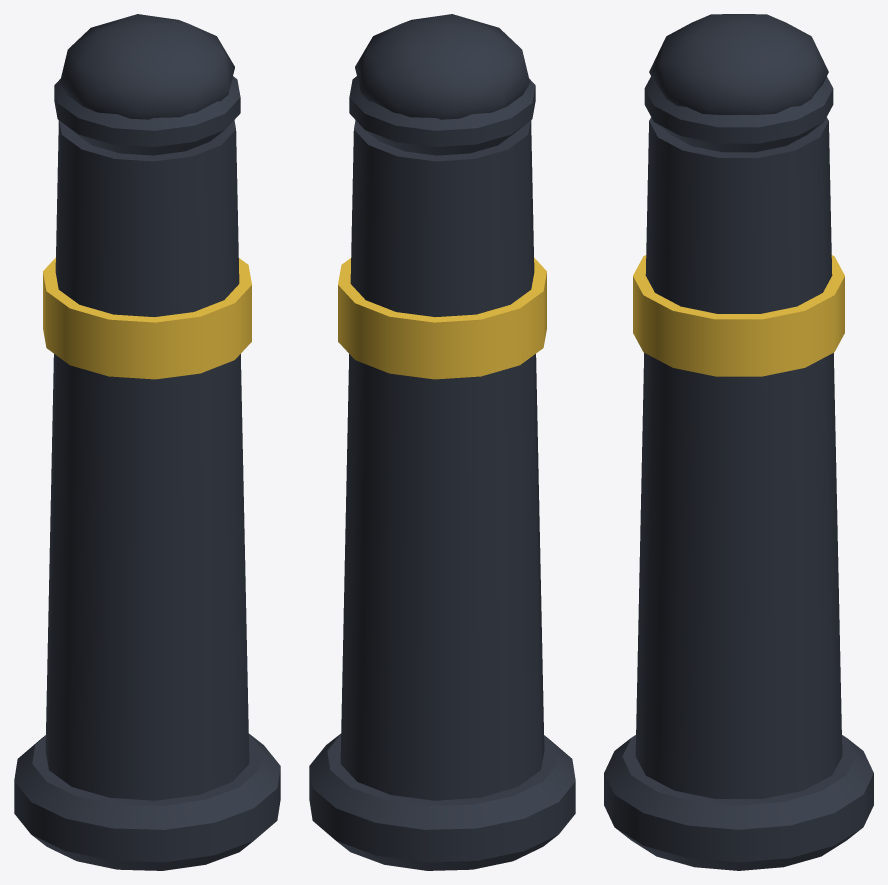
File: bollard.glb
The picture shows the model from 3 angles, left to right: view 1: azimuth 30°, elevation 25°; view 2: azimuth 150°, elevation 25°; view 3: azimuth 270°, elevation 25°; orthographic projection.
Visible parts, largest first — view 1: bollard; view 2: bollard; view 3: bollard.
Boxes of the visible parts, x1,y1,x2,y2 form: bollard: (14,14,280,870); bollard: (309,14,575,870); bollard: (604,14,873,870).
Bounding box in the file's own units: 0.3 × 0.98 × 0.3.
Materials: 1 (1 with a texture image).
